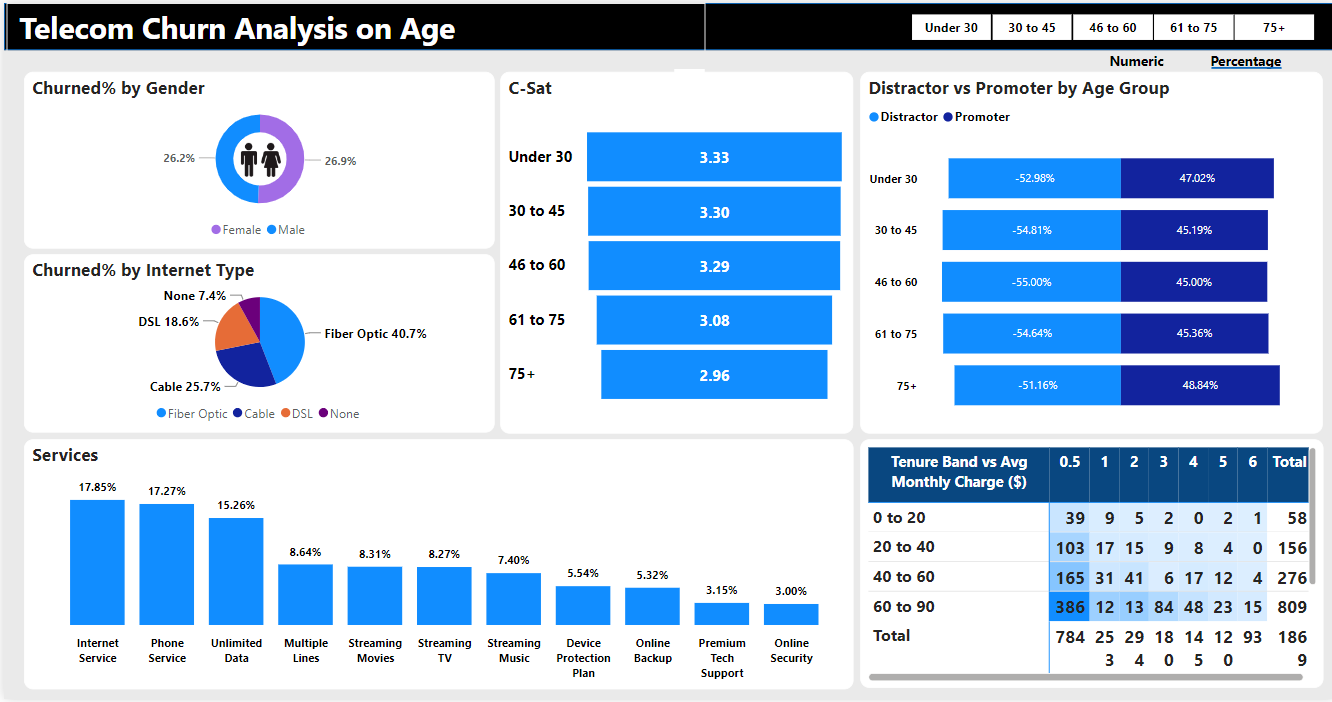

The dashboard page shown, as its layout file describes it:
{"tool":"powerbi","page":{"name":"Age Analysis","canvas":[1440,753],"ordinal":1},"visuals":[{"type":"shape","box":[0,0,1440.3,51],"z":1000},{"type":"textbox","box":[3.2,0,755.4,70.4],"z":2000},{"type":"slicer","fields":{"Values":["Demographics_Dim.Age (groups)"]},"box":[955.4,4.8,484.9,41.6],"z":3000},{"type":"donutChart","title":"Churned% by Gender","fields":{"Y":["_measure.Churn%"],"Category":["Demographics_Dim.Gender"]},"box":[21.4,74.3,508.6,191.4],"z":4000},{"type":"pivotTable","fields":{"Columns":["Telco_Churn_fact.Tenure Band"],"Values":["Sum(Telco_Churn_fact.Churn Value)"],"Rows":["Telco_Churn_fact.Monthly Charge Category"]},"box":[925,472.1,500.9,268.9],"z":5000},{"type":"image","box":[251.4,142.9,52.9,52.9],"z":6000},{"type":"funnel","title":"C-Sat","fields":{"Category":["Demographics_Dim.Age (groups)"],"Y":["Avg(Telco_Churn_fact.Satisfaction Score)"]},"box":[537.1,74.3,381.4,391.4],"z":7000},{"type":"clusteredColumnChart","title":"Services","fields":{"Category":["Services_Dim_Transpose.Attribute"],"Y":["CountNonNull(Services_Dim_Transpose.Value)"]},"box":[21.4,471.4,897.1,270],"z":8000},{"type":"barChart","title":"Distractor vs Promoter by Age Group","fields":{"Category":["Demographics_Dim.Age (groups)"],"Y":["_measure.Distractor","_measure.Promoter"]},"box":[925.7,74.3,500,391.4],"z":9000},{"type":"pieChart","title":"Churned% by Internet Type","fields":{"Category":["Services_Dim.Internet Type"],"Y":["_measure.Churn%"]},"box":[21.4,271.4,508.6,192.9],"z":10000},{"type":"actionButton","box":[1149.3,47.1,151.4,30],"z":12000},{"type":"actionButton","box":[1260,47,165.7,30],"z":13000},{"type":"shape","box":[1305.7,47.1,75.7,45.7],"z":14000}]}

Visuals, with their boxes in screenshot pixels (x1, y1, x2, y2), scaled from the page's 1440x753 canvas onto the 1332x702 screenshot:
shape: 0:0:1331:48
textbox: 3:0:702:66
slicer - Demographics_Dim.Age (groups): 884:4:1331:43
"Churned% by Gender" donutChart: 20:69:490:248
pivotTable - Telco_Churn_fact.Tenure Band x Sum(Telco_Churn_fact.Churn Value): 856:440:1319:691
image: 233:133:281:183
"C-Sat" funnel: 497:69:850:434
"Services" clusteredColumnChart: 20:439:850:691
"Distractor vs Promoter by Age Group" barChart: 856:69:1319:434
"Churned% by Internet Type" pieChart: 20:253:490:433
actionButton: 1063:44:1203:72
actionButton: 1166:44:1319:72
shape: 1208:44:1278:87
